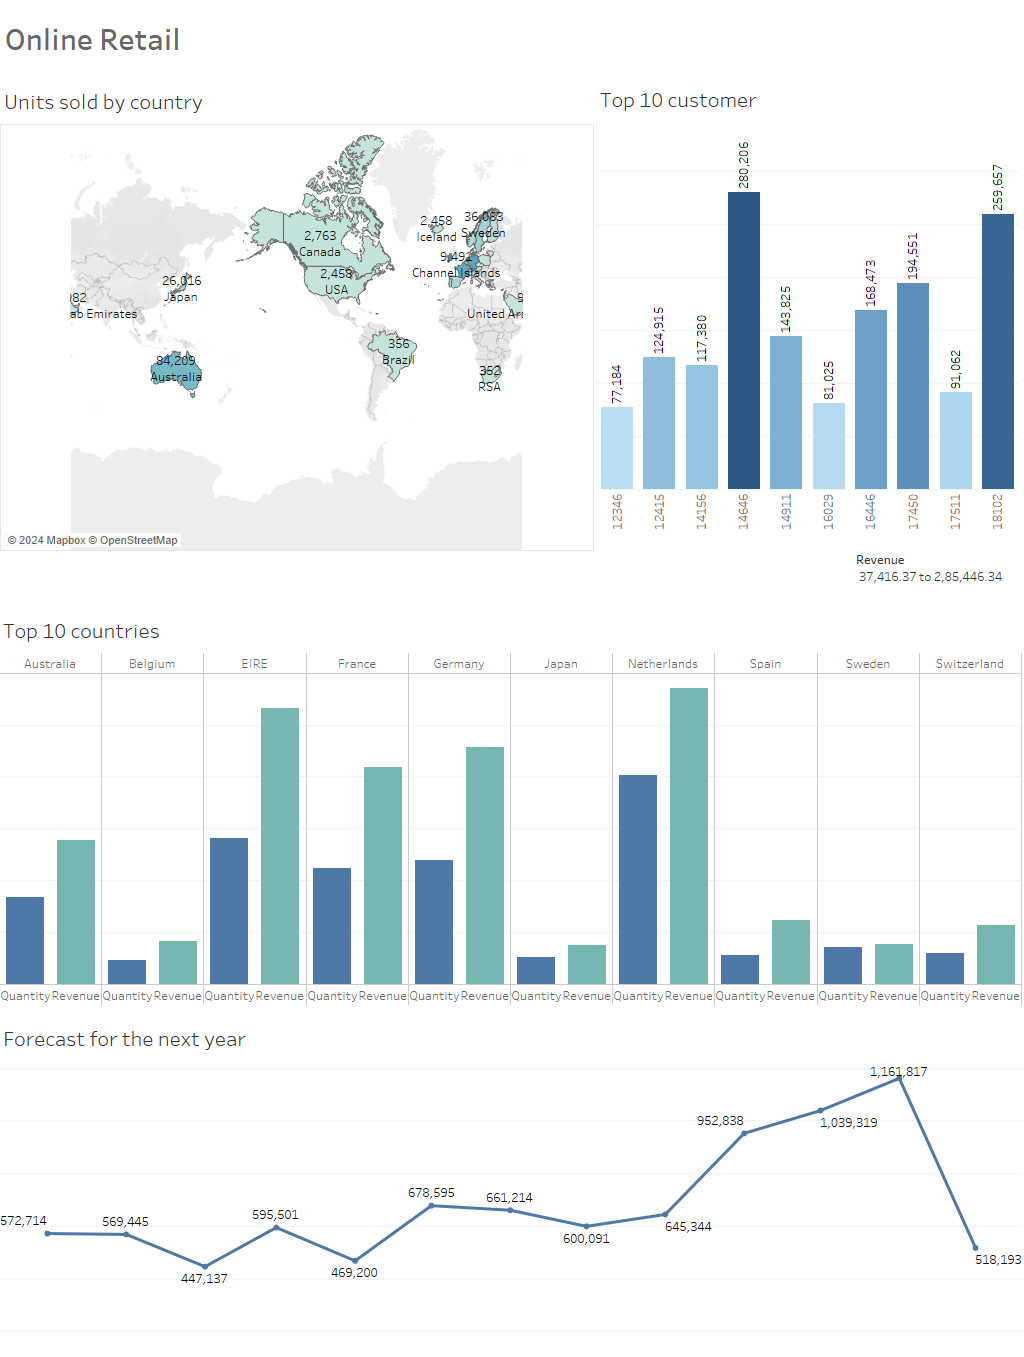

What the dashboard file says about the page in this screenshot:
{"tool":"tableau","page":{"name":"Dashboard 1","canvas":[1024,1000],"ordinal":0},"visuals":[{"type":"text","box":[2,2,423,34.5]},{"type":"worksheet","title":"Top 10 customer","mark":"Bar","rows":["Calculation_589408649627889664"],"cols":["CustomerID"],"box":[594,7,423,291]},{"type":"worksheet","title":"Units sold by country","mark":"Automatic","box":[0,41,594,295]},{"type":"filter","title":"Top 10 countries","param":"[federated.1k4n4vd0uhptft168jg2u15thf8t].[usr:Calculation_589408649627889664:qk]","box":[856,305,167,63]},{"type":"worksheet","title":"Forecast for the next year","mark":"Automatic","rows":["Calculation_589408649627889664"],"cols":["InvoiceDate"],"box":[4,693,1024,295]}]}

Visuals, with their boxes on the page's 1024x1000 design canvas (x1, y1, x2, y2). These are canvas units, not pixel positions in the 1024x1357 screenshot, which may show the page scaled, cropped or inside an application window:
text: detection(2, 2, 425, 36)
"Top 10 customer" worksheet (Bar marks): detection(594, 7, 1017, 298)
"Units sold by country" worksheet: detection(0, 41, 594, 336)
"Top 10 countries" filter: detection(856, 305, 1023, 368)
"Forecast for the next year" worksheet: detection(4, 693, 1028, 988)
